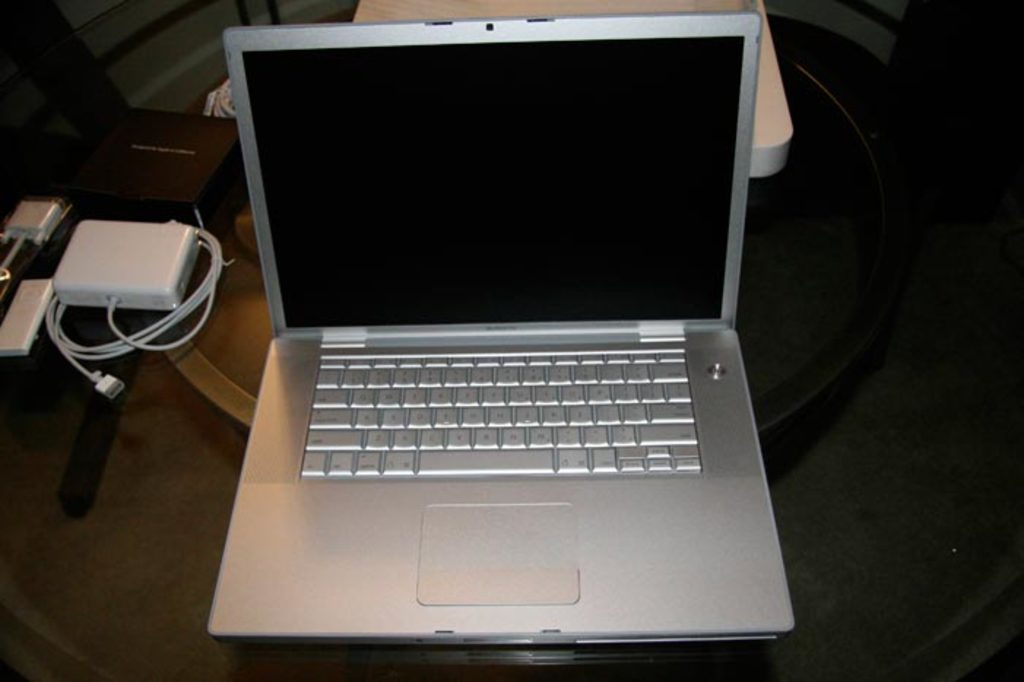Laptop: (219, 7, 795, 643)
